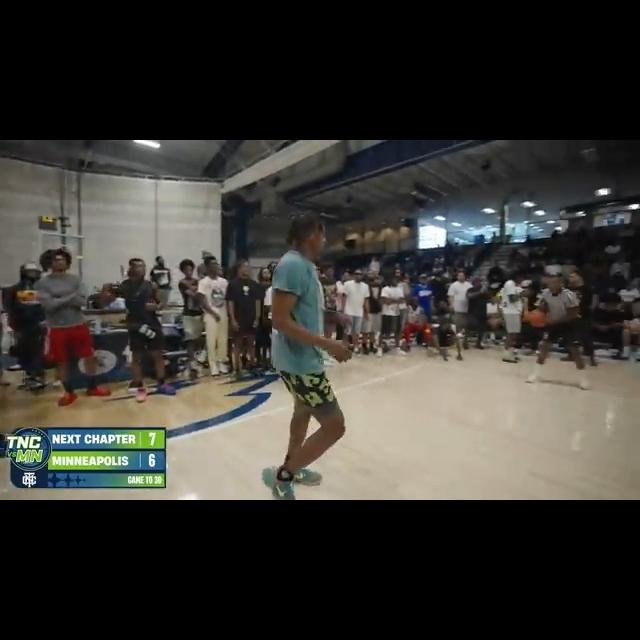basketball: (531, 309, 547, 327), (59, 390, 75, 406)
